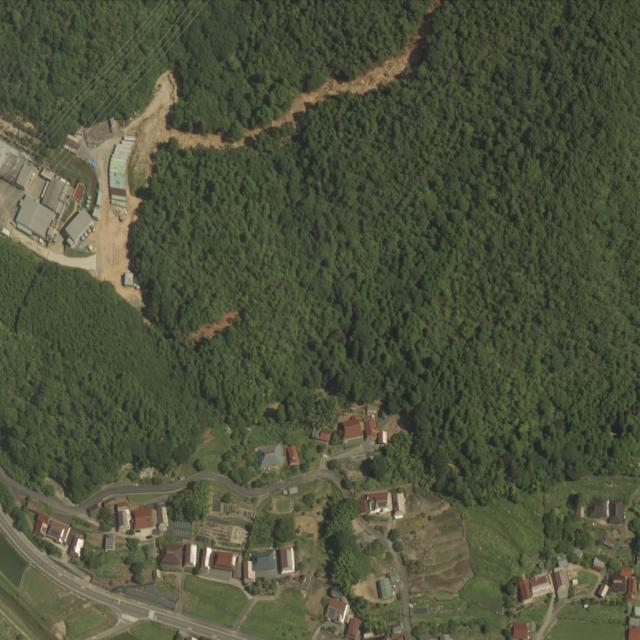landslide: (232, 0, 442, 146), (187, 311, 239, 342), (170, 131, 227, 147)
